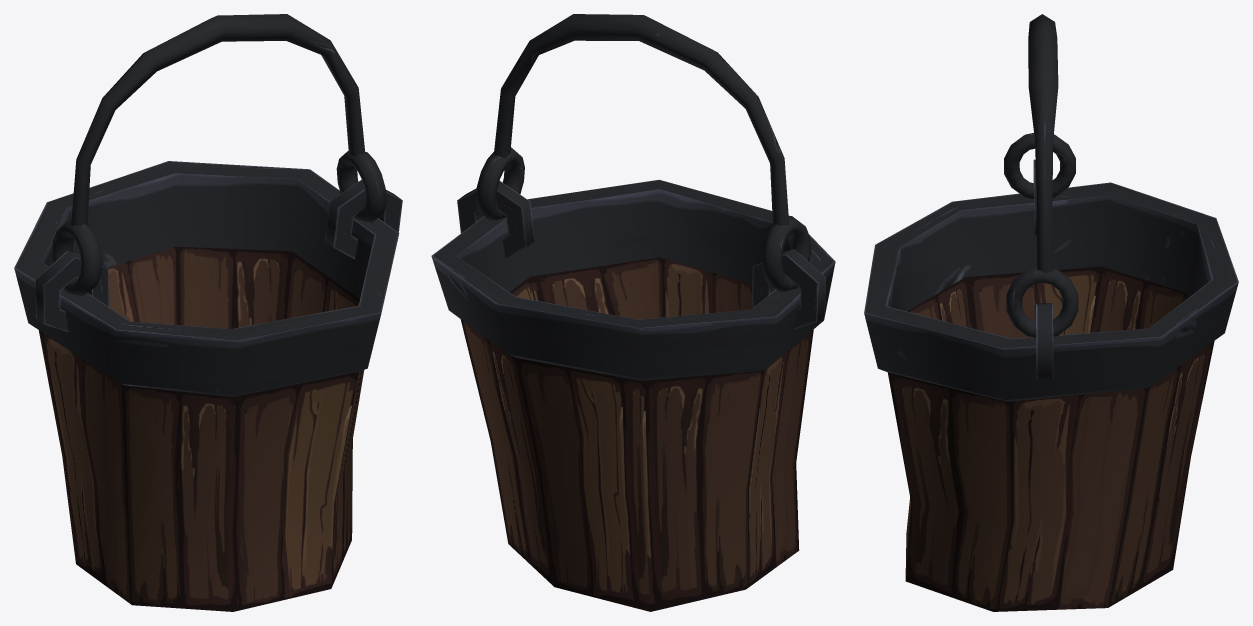
The model's file is SM_PROP_bucket_dungeon_01.fbx.
The picture shows the model from 3 angles, left to right: view 1: azimuth 30°, elevation 25°; view 2: azimuth 150°, elevation 25°; view 3: azimuth 270°, elevation 25°; orthographic projection.
Parts seen in each view (by area): view 1: SM_PROP_bucket_dungeon_01, SM_PROP_bucket_04_handle; view 2: SM_PROP_bucket_dungeon_01, SM_PROP_bucket_04_handle; view 3: SM_PROP_bucket_dungeon_01, SM_PROP_bucket_04_handle.
Boxes of the visible parts, x1,y1,x2,y2 form: SM_PROP_bucket_dungeon_01: [14, 161, 402, 611]; SM_PROP_bucket_04_handle: [51, 14, 386, 296]; SM_PROP_bucket_dungeon_01: [431, 179, 835, 611]; SM_PROP_bucket_04_handle: [476, 14, 810, 292]; SM_PROP_bucket_dungeon_01: [864, 159, 1238, 611]; SM_PROP_bucket_04_handle: [1004, 14, 1078, 337].
Size of the model in its own units: 43 by 60.88 by 38.97.
